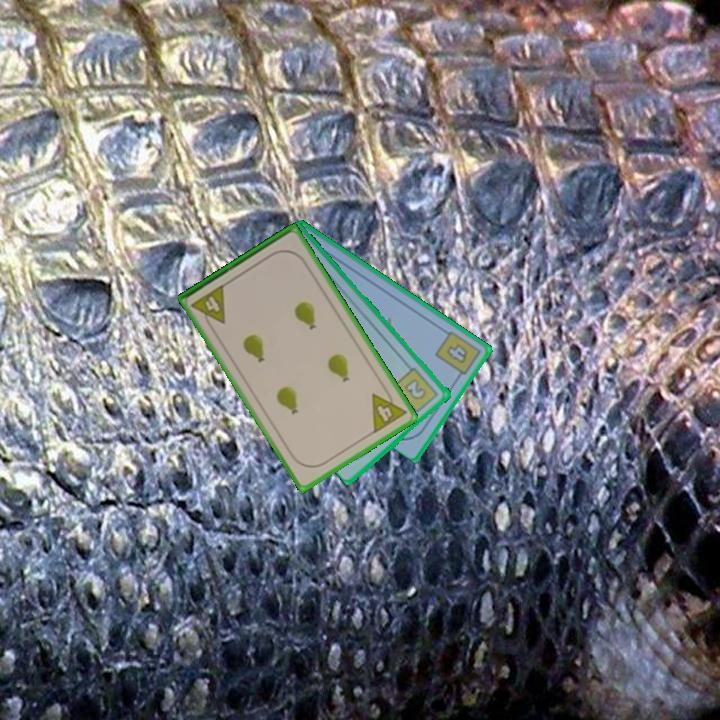2b: (390, 364, 442, 419)
4b: (432, 327, 484, 382)
4p: (368, 383, 409, 436), (188, 281, 229, 332)
